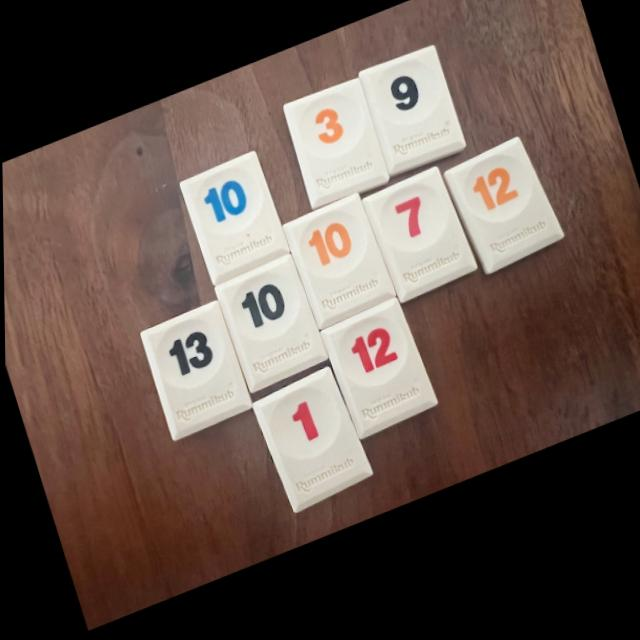black_10: (214, 260, 326, 397)
black_13: (139, 306, 249, 443)
black_9: (358, 55, 465, 184)
blue_10: (180, 157, 287, 289)
orange_10: (283, 202, 394, 336)
orange_12: (443, 149, 562, 285)
orange_3: (284, 86, 388, 215)
red_1: (251, 374, 371, 518)
red_12: (320, 306, 435, 446)
red_7: (362, 177, 475, 311)
